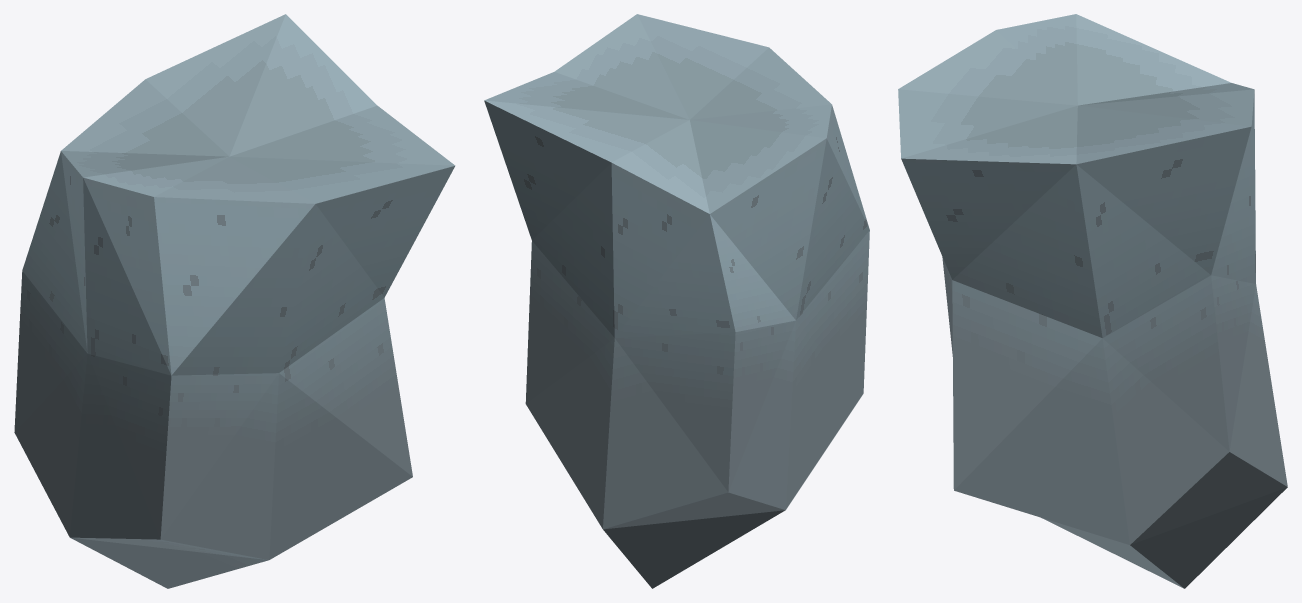
File: roca_2.gltf
3 renders of one model, left to right at view 1: azimuth 30°, elevation 25°; view 2: azimuth 150°, elevation 25°; view 3: azimuth 270°, elevation 25°, orthographic. The views are drawn at different scales.
Parts seen in each view (by area): view 1: roca2; view 2: roca2; view 3: roca2.
Part boxes in pixels (box(x1,y1,x2,y2)): roca2: box(14, 14, 455, 588); roca2: box(484, 14, 869, 588); roca2: box(898, 14, 1287, 588).
Size of the model in its own units: 2.33 by 3.89 by 2.55.
Materials: 1 (1 with a texture image).
